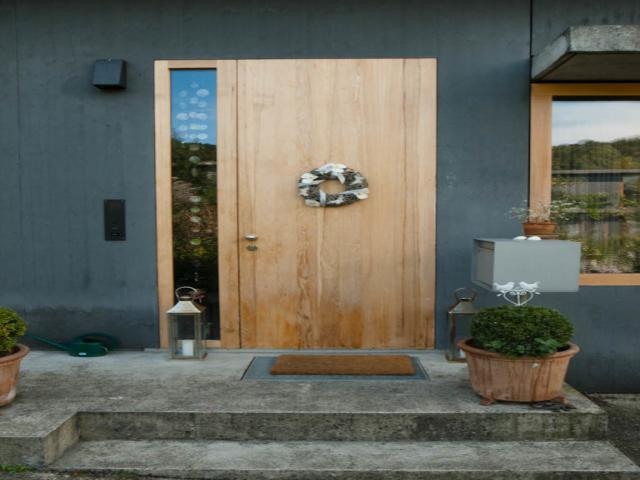Door-handle: (242, 233, 258, 242)
